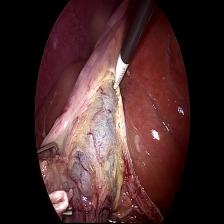Grasper: (36, 140, 62, 164)
Hook: (111, 54, 132, 94)
